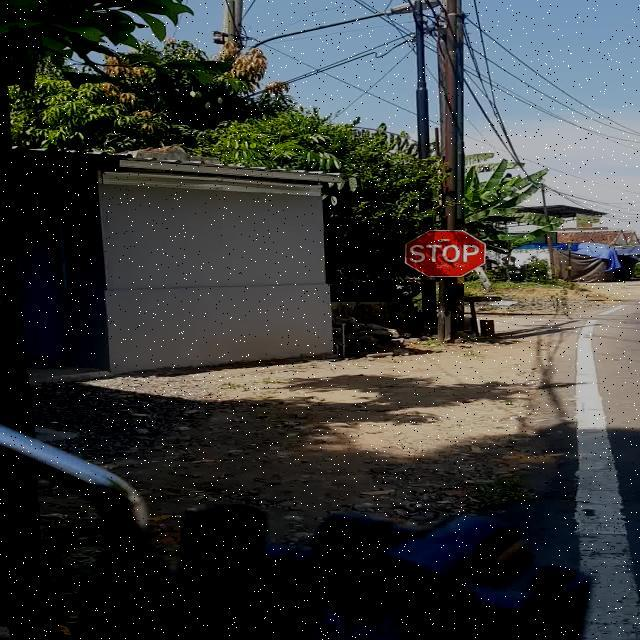Berhenti: (404, 230, 486, 277)
